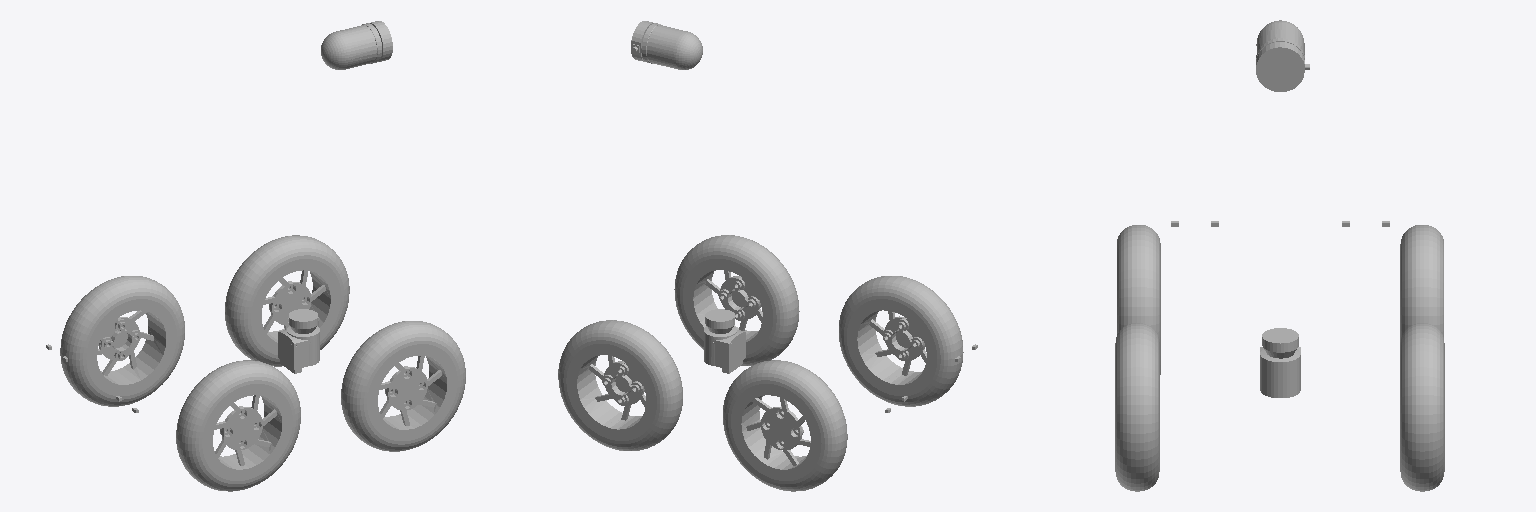
The robot description file, URDF, robot "af":
<robot
  name="af">

  <link
    name="base_footprint">
    <visual>
      <origin
        xyz="0 0 0.2984495120400078"
        rpy="1.5707963267949 0 1.5707963267949" />
      <geometry>
        <mesh
          filename="package://af_bringup/meshes/base_footprint.STL" />
      </geometry>
      <material
        name="">
        <color
          rgba="0.752941176470588 0.752941176470588 0.752941176470588 1" />
      </material>
    </visual>
  </link>



  <link
    name="base_link">
    <visual>
      <origin
        xyz="0 0 0"
        rpy="1.5707963267949 0 1.5707963267949" />
      <geometry>
        <mesh
          filename="package://af_bringup/meshes/base_footprint.STL" />
      </geometry>
      <material
        name="">
        <color
          rgba="0.752941176470588 0.752941176470588 0.752941176470588 1" />
      </material>
    </visual>
  </link>
  <joint
    name="base_link_joint"
    type="fixed">
    <origin
      xyz="0 0 0.2984495120400078"
      rpy="0 0 0" />
    <parent
      link="base_footprint" />
    <child
      link="base_link" />
    <axis
      xyz="0 0 0" />
  </joint>

<!--        rpy="0 0 1.5707963267949" />-->
  <link
    name="laser">
    <visual>
      <origin
        xyz="0 0 0"
        rpy="0 0 1.5707963267949" />
      <geometry>
        <mesh
          filename="package://af_bringup/meshes/laser.STL" />
      </geometry>
      <material
        name="">
        <color
          rgba="0.752941176470588 0.752941176470588 0.752941176470588 1" />
      </material>
    </visual>
  </link>
  <joint
    name="laser_joint"
    type="fixed">
    <origin
      xyz="0.22 0 0.040"
      rpy="0 0 0" />
    <parent
      link="base_link" />
    <child
      link="laser" />
    <axis
      xyz="0 0 0" />
  </joint>



  <link
    name="wheel1">
    <visual>
      <origin
        xyz="0 0 0"
        rpy="1.5707963267949 0 0" />
      <geometry>
        <mesh
          filename="package://af_bringup/meshes/wheel1.STL" />
      </geometry>
      <material
        name="">
        <color
          rgba="0.752941176470588 0.752941176470588 0.752941176470588 1" />
      </material>
    </visual>
  </link>
  <joint
    name="base_wheel1"
    type="fixed">
    <origin
      xyz="0.36689 0.353838628838196 -0.0884495120400078"
      rpy="0 0 0" />
    <parent
      link="base_link" />
    <child
      link="wheel1" />
    <axis
      xyz="0 0 0" />
  </joint>



  <link
    name="wheel2">
    <visual>
      <origin
        xyz="0 0 0"
        rpy="1.5707963267949 0 0" />
      <geometry>
        <mesh
          filename="package://af_bringup/meshes/wheel2.STL" />
      </geometry>
      <material
        name="">
        <color
          rgba="0.752941176470588 0.752941176470588 0.752941176470588 1" />
      </material>
    </visual>
  </link>
  <joint
    name="base_wheel2"
    type="fixed">
    <origin
      xyz="-0.21311 0.353805715763312 -0.0884495120400076"
      rpy="0 0 0" />
    <parent
      link="base_link" />
    <child
      link="wheel2" />
    <axis
      xyz="0 0 0" />
  </joint>



  <link
    name="wheel3">
    <visual>
      <origin
        xyz="0 0 0"
        rpy="-1.5707963267949 0 0" />
      <geometry>
        <mesh
          filename="package://af_bringup/meshes/wheel3.STL" />
      </geometry>
      <material
        name="">
        <color
          rgba="0.752941176470588 0.752941176470588 0.752941176470588 1" />
      </material>
    </visual>
  </link>
  <joint
    name="base_wheel3"
    type="fixed">
    <origin
      xyz="0.36689 -0.356514177677096 -0.0884495120400078"
      rpy="0 0 0" />
    <parent
      link="base_link" />
    <child
      link="wheel3" />
    <axis
      xyz="0 0 0" />
  </joint>



  <link
    name="wheel4">
    <visual>
      <origin
        xyz="0 0 0"
        rpy="-1.5707963267949 0 0" />
      <geometry>
        <mesh
          filename="package://af_bringup/meshes/wheel4.STL" />
      </geometry>
      <material
        name="">
        <color
          rgba="0.752941176470588 0.752941176470588 0.752941176470588 1" />
      </material>
    </visual>
  </link>
  <joint
    name="base_wheel4"
    type="fixed">
    <origin
      xyz="-0.21311 -0.353805715763312 -0.0884495120400078"
      rpy="0 0 0" />
    <parent
      link="base_link" />
    <child
      link="wheel4" />
    <axis
      xyz="0 0 0" />
  </joint>



  <link
    name="Stereo">
    <visual>
      <origin
        xyz="0 0 0"
        rpy="0 1.57 0" />
      <geometry>
        <mesh
          filename="package://af_bringup/meshes/camera.STL" />
      </geometry>
      <material
        name="">
        <color
          rgba="0.752941176470588 0.752941176470588 0.752941176470588 1" />
      </material>
    </visual>
  </link>
  <joint
    name="base_camera"
    type="fixed">
    <origin
      xyz="0.5 0 0.902"
      rpy="0 0 0" />
    <parent
      link="base_link" />
    <child
      link="Stereo" />
    <axis
      xyz="0 0 0" />
  </joint>

    <link
    name="range5">
    <visual>
      <origin
        xyz="0 0 0"
        rpy="0 0 0" />
      <geometry>
        <box size="0.01 0.02 0.01"/>
      </geometry>
      <material
        name="">
        <color
          rgba="0.752941176470588 0.752941176470588 0.752941176470588 1" />
      </material>
    </visual>
  </link>
  <joint
    name="base_range5"
    type="fixed">
    <origin
      xyz="-0.525 0.264 0.0"
      rpy="0 0 3.1415926" />
    <parent
      link="base_link" />
    <child
      link="range5" />
    <axis
      xyz="0 0 0" />
  </joint>

    <link
    name="range6">
    <visual>
      <origin
        xyz="0 0 0"
        rpy="0 0 0" />
      <geometry>
        <box size="0.01 0.02 0.01"/>
      </geometry>
      <material
        name="">
        <color
          rgba="0.752941176470588 0.752941176470588 0.752941176470588 1" />
      </material>
    </visual>
  </link>
  <joint
    name="base_range6"
    type="fixed">
    <origin
      xyz="-0.525 0.164 0.0"
      rpy="0 0 3.1415926" />
    <parent
      link="base_link" />
    <child
      link="range6" />
    <axis
      xyz="0 0 0" />
  </joint>
<link
    name="range7">
    <visual>
      <origin
        xyz="0 0 0"
        rpy="0 0 0" />
      <geometry>
        <box size="0.01 0.02 0.01"/>
      </geometry>
      <material
        name="">
        <color
          rgba="0.752941176470588 0.752941176470588 0.752941176470588 1" />
      </material>
    </visual>
  </link>
  <joint
    name="base_range7"
    type="fixed">
    <origin
      xyz="-0.525 -0.164 0.0"
      rpy="0 0 3.1415926" />
    <parent
      link="base_link" />
    <child
      link="range7" />
    <axis
      xyz="0 0 0" />
  </joint>

    <link
    name="range8">
    <visual>
      <origin
        xyz="0 0 0"
        rpy="0 0 0" />
      <geometry>
        <box size="0.01 0.02 0.01"/>
      </geometry>
      <material
        name="">
        <color
          rgba="0.752941176470588 0.752941176470588 0.752941176470588 1" />
      </material>
    </visual>
  </link>
  <joint
    name="base_range8"
    type="fixed">
    <origin
      xyz="-0.525 -0.264 0.0"
      rpy="0 0 3.1415926" />
    <parent
      link="base_link" />
    <child
      link="range8" />
    <axis
      xyz="0 0 0" />
  </joint>


</robot>

--- What the picture shows (computed from the rendered views, not written in the file) ---
3 views of the same robot in one strip: view 1: azimuth 30°, elevation 25°; view 2: azimuth 150°, elevation 25°; view 3: azimuth 270°, elevation 25° (orthographic).
Robot: af — 12 links, 11 joints (11 fixed); root link base_footprint; default pose: all joints at 0.
Links seen in each view (by area): view 1: wheel4, wheel3, wheel2, wheel1, Stereo, laser; view 2: wheel1, wheel2, wheel4, wheel3, Stereo, laser; view 3: wheel1, wheel3, wheel4, wheel2, Stereo, laser.
Link boxes in pixels (x1,y1,x2,y2): wheel4: (176,360,300,491); wheel3: (341,321,465,451); wheel2: (60,276,184,406); wheel1: (225,235,349,366); Stereo: (321,21,392,69); laser: (278,309,319,373); wheel1: (558,320,682,450); wheel2: (723,360,847,491); wheel4: (839,276,963,406); wheel3: (674,235,799,365); Stereo: (631,21,702,69); laser: (704,309,745,373); wheel1: (1400,323,1444,491); wheel3: (1115,323,1159,491); wheel4: (1117,225,1160,374); wheel2: (1400,225,1443,341); Stereo: (1256,20,1309,91); laser: (1260,328,1300,397).
Size in the robot's own frame: 1.11 by 0.8204 by 1.26 metres.
Meshes: 7 distinct files referenced, 6 mesh visuals loaded (6 binary STL); not drawn: 2 (reference not matched to a file when rendering).
